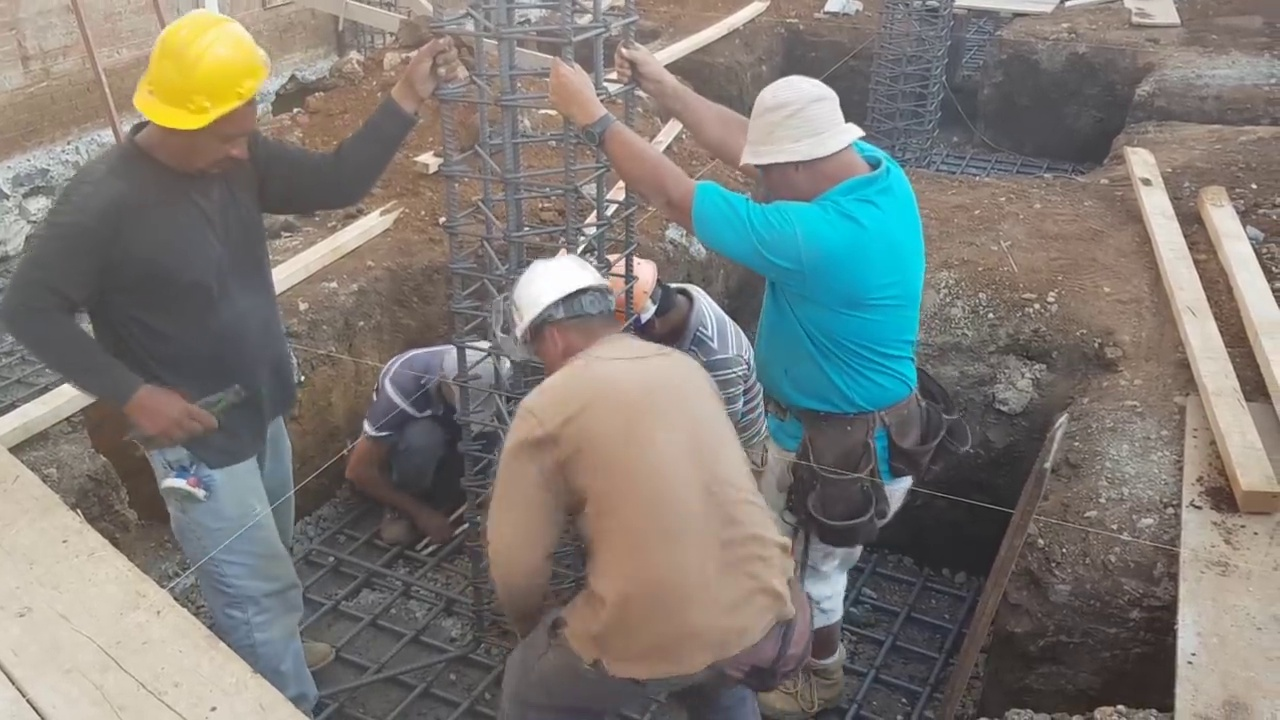helmet: (127, 7, 262, 138), (509, 249, 608, 339), (611, 256, 661, 337)
helmet-off: (729, 72, 880, 208), (436, 339, 520, 441)
helmet-on: (112, 0, 276, 191), (508, 244, 623, 380), (607, 255, 698, 348)
person: (16, 2, 477, 698), (545, 42, 942, 623), (492, 257, 801, 720), (346, 339, 517, 552), (611, 255, 771, 481)
